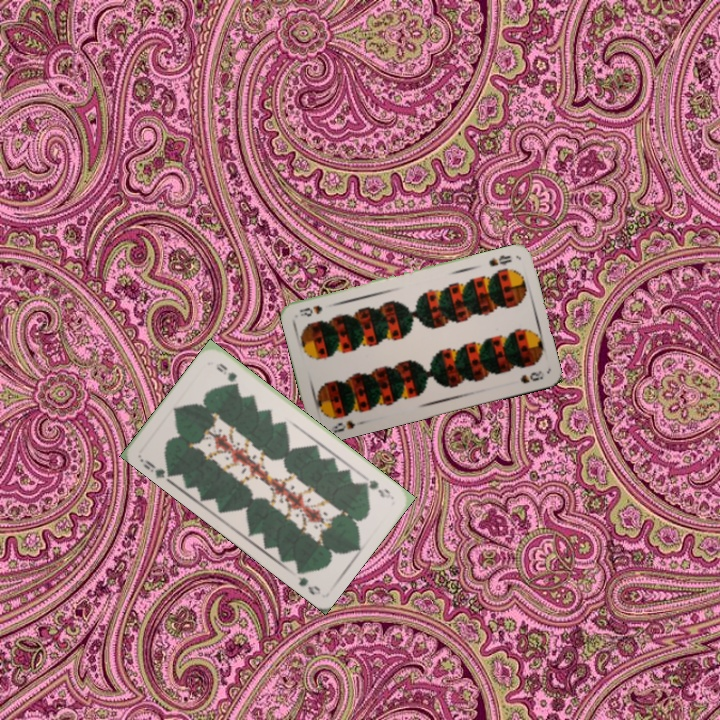G9: (136, 454, 174, 481), (358, 476, 395, 501)
S8: (323, 416, 364, 436), (485, 251, 514, 269)
